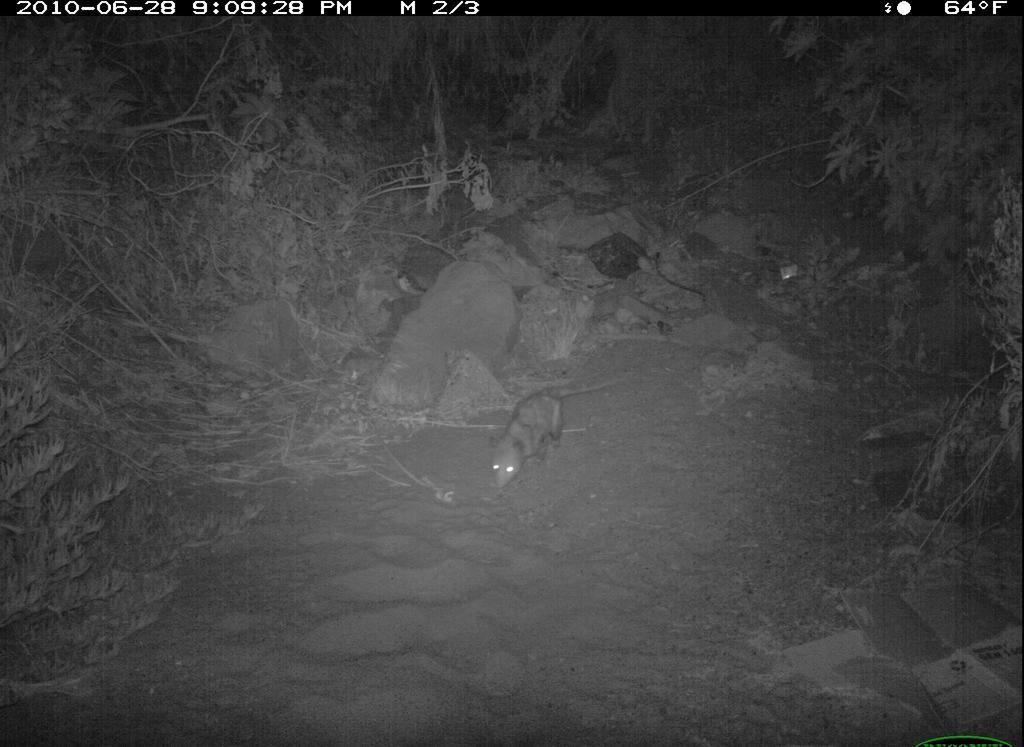opossum: (484, 368, 629, 497)
